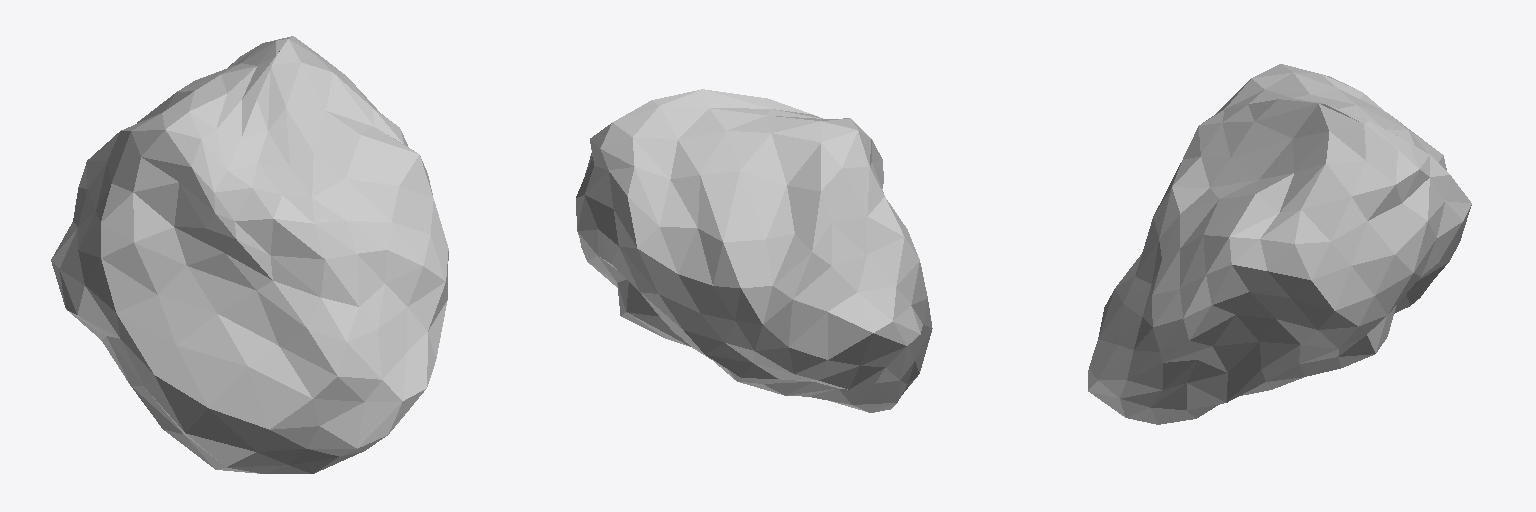
The model's file is asteroid16.obj.
3 views of the same model, side by side, from view 1: azimuth 30°, elevation 25°; view 2: azimuth 150°, elevation 25°; view 3: azimuth 270°, elevation 25° (orthographic).
Visible parts, largest first — view 1: asteroid; view 2: asteroid; view 3: asteroid.
Boxes of the visible parts, <box> form: asteroid: <box>51,36,448,473</box>; asteroid: <box>576,89,932,412</box>; asteroid: <box>1088,64,1471,424</box>.
Size of the model in its own units: 50.35 by 50.2 by 50.55.